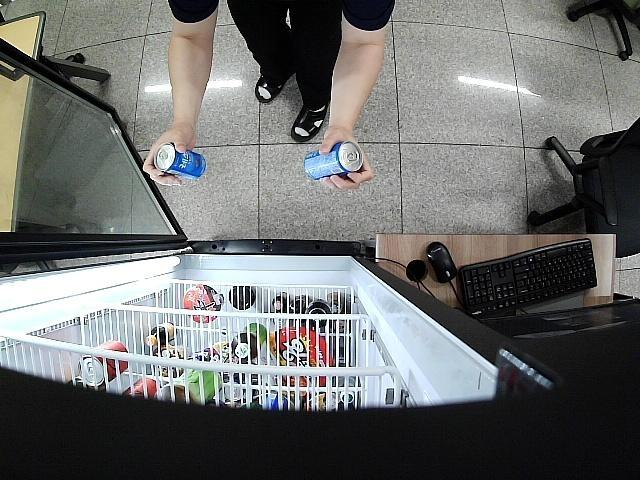15_letsbe: (304, 140, 363, 180), (155, 143, 206, 180)
